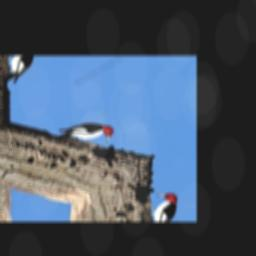Woodpecker: (47, 104, 126, 164)
